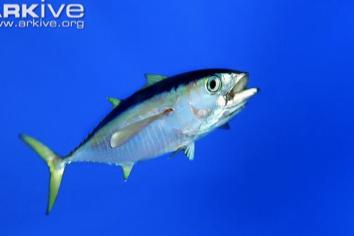Scombridae -Tunas-: (15, 65, 261, 216)
